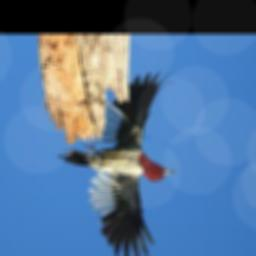Woodpecker: (56, 71, 177, 256)
